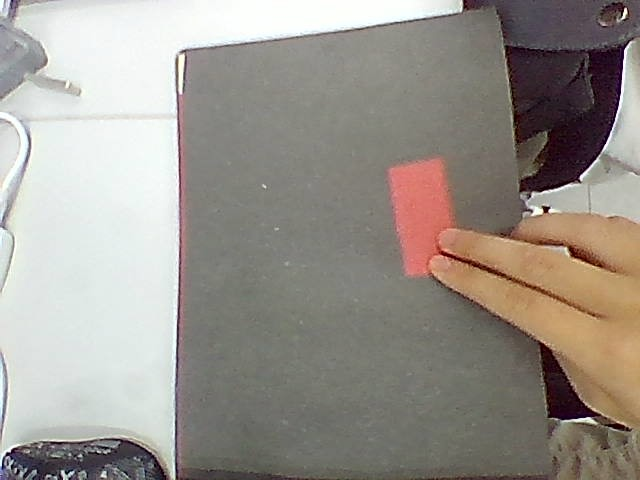card: (388, 158, 454, 276)
